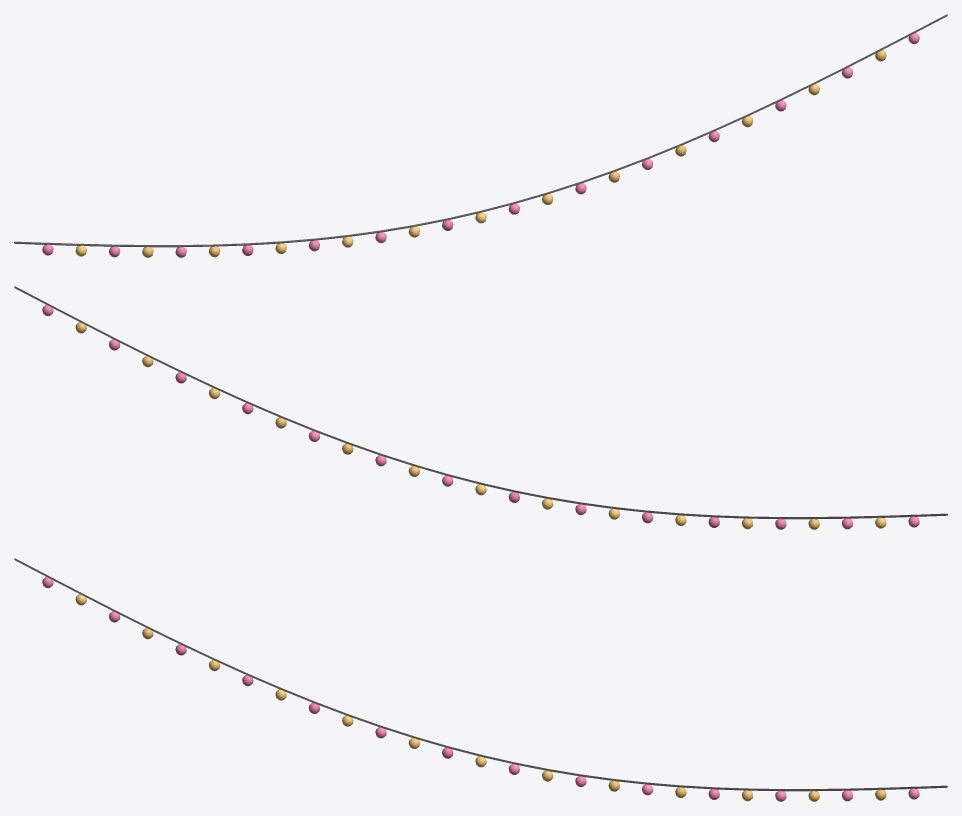
The model's file is rc_fairy_lights.fbx.
3 views of the same model, one above another, from view 1: azimuth 30°, elevation 25°; view 2: azimuth 150°, elevation 25°; view 3: azimuth 330°, elevation 25° (orthographic).
Parts seen in each view (by area): view 1: rc_fairy_lights; view 2: rc_fairy_lights; view 3: rc_fairy_lights.
Part boxes in pixels (x1,y1,x2,y2): rc_fairy_lights: (14, 14, 947, 257); rc_fairy_lights: (14, 286, 947, 529); rc_fairy_lights: (14, 558, 947, 801).
Size of the model in its own units: 16.51 by 1.61 by 0.18.
Materials: 3 (3 with a texture image).
